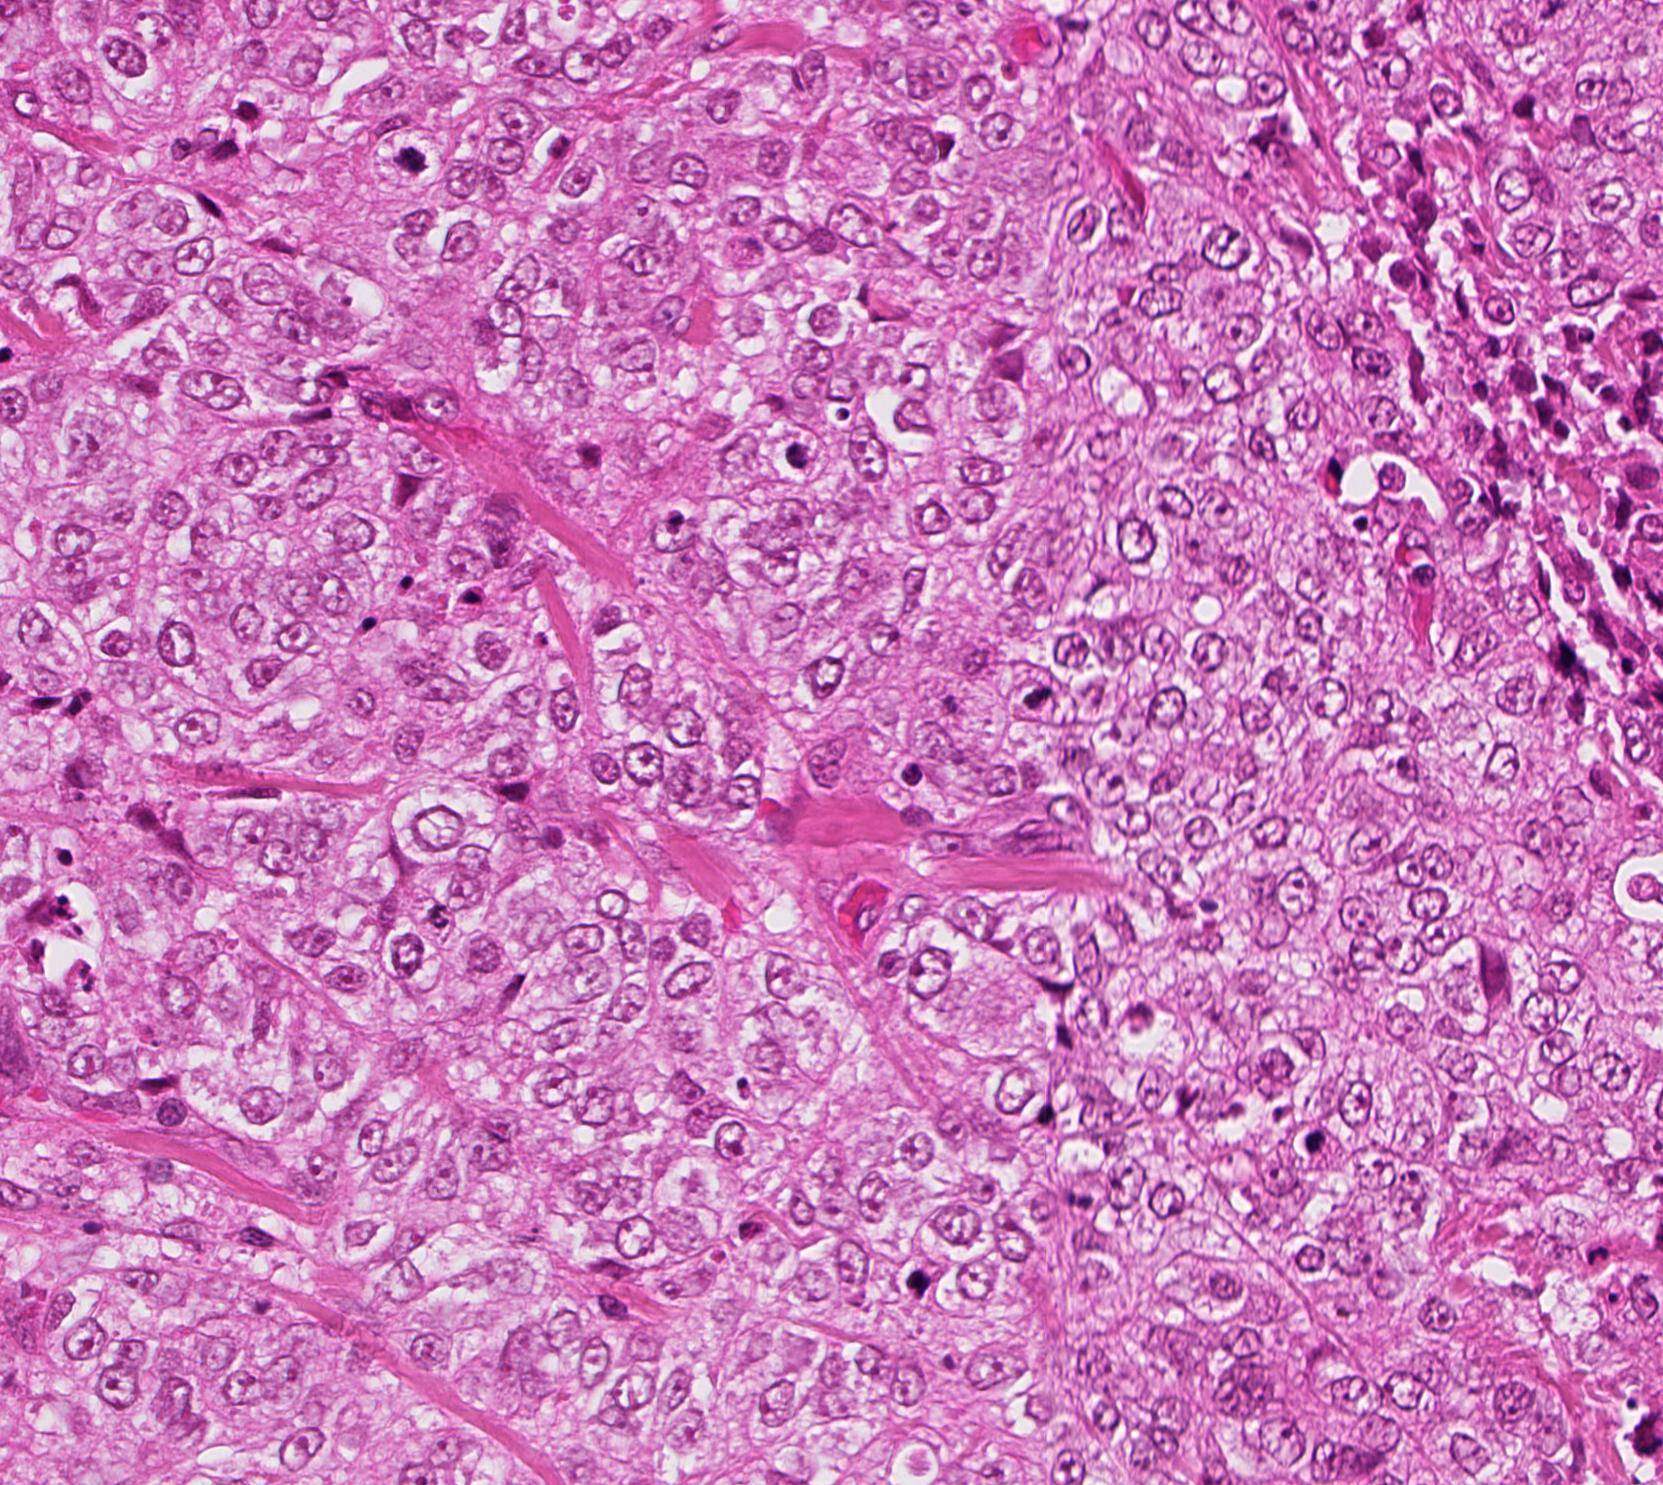mitosis: (383, 125, 443, 185), (1006, 661, 1067, 721), (768, 419, 829, 479)
